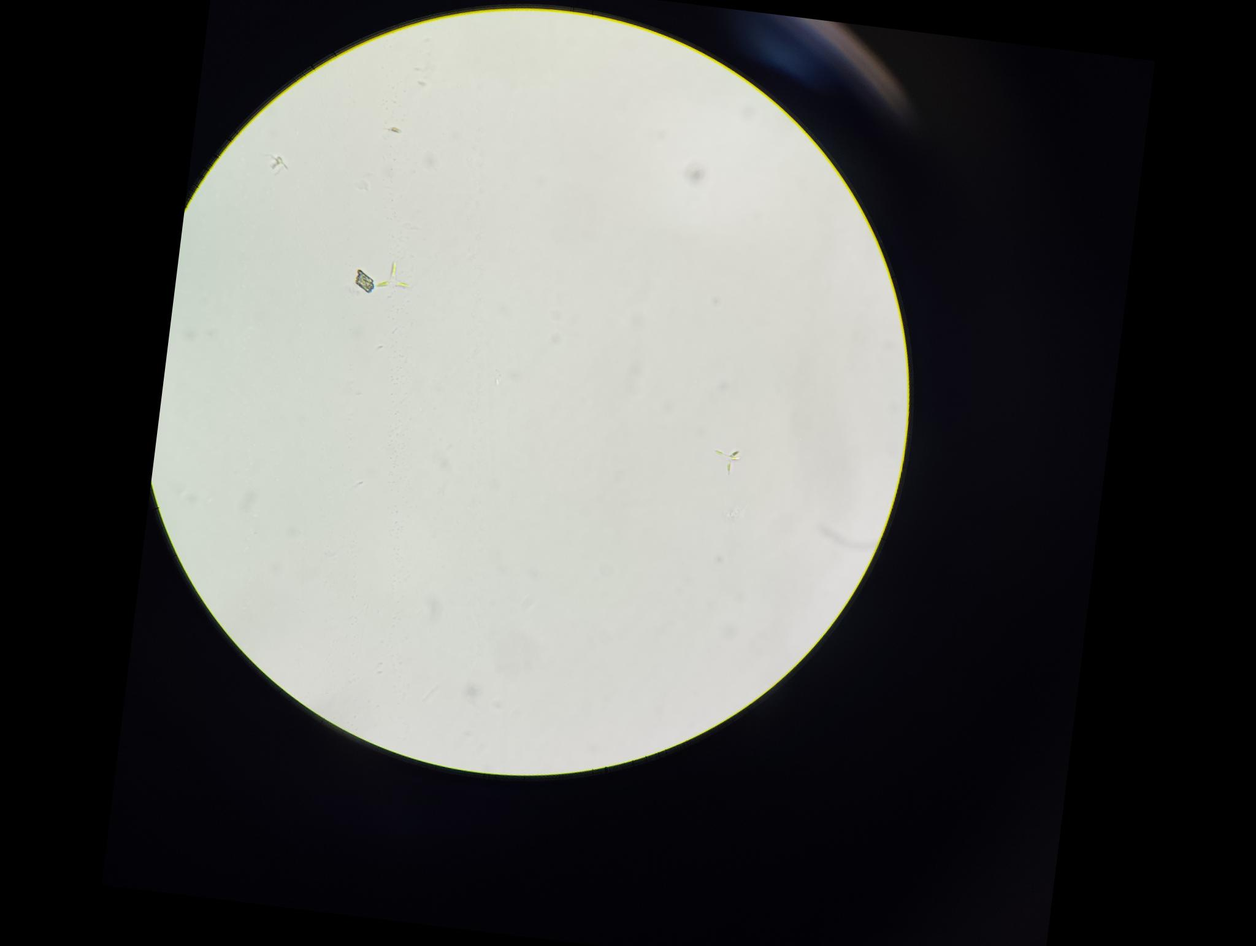Scenedesmus: (375, 256, 417, 298), (710, 442, 745, 479)
